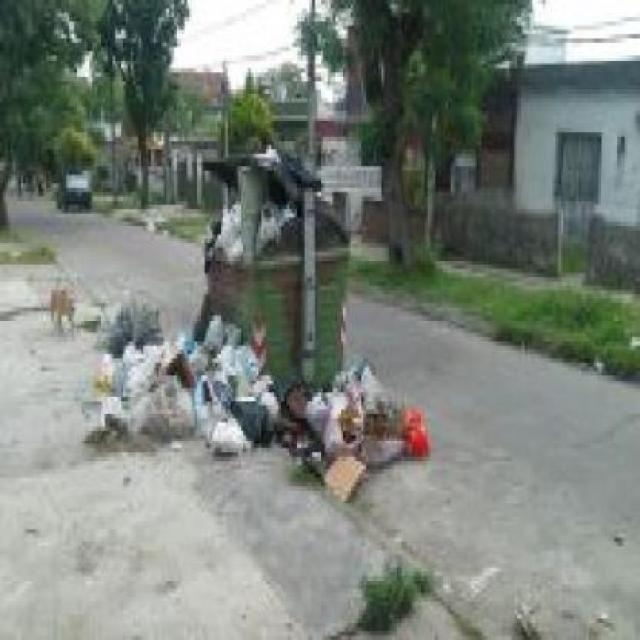garbage: (270, 372, 426, 466), (92, 308, 196, 440), (208, 312, 264, 444), (213, 171, 300, 252)
